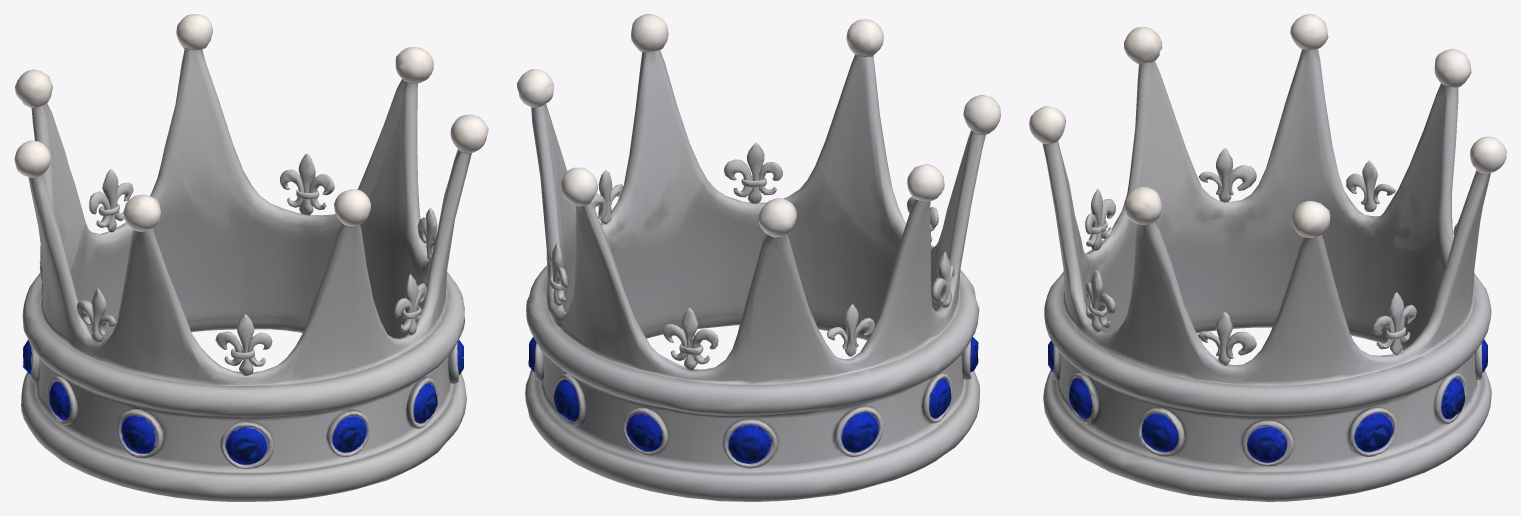
Rendered from crown_silver.glb.
3 views of the same model, side by side, from view 1: azimuth 30°, elevation 25°; view 2: azimuth 150°, elevation 25°; view 3: azimuth 270°, elevation 25° (orthographic).
Bounding box in the file's own units: 0.9478 × 0.6626 × 0.9429.
Materials: 1 (1 with a texture image).
